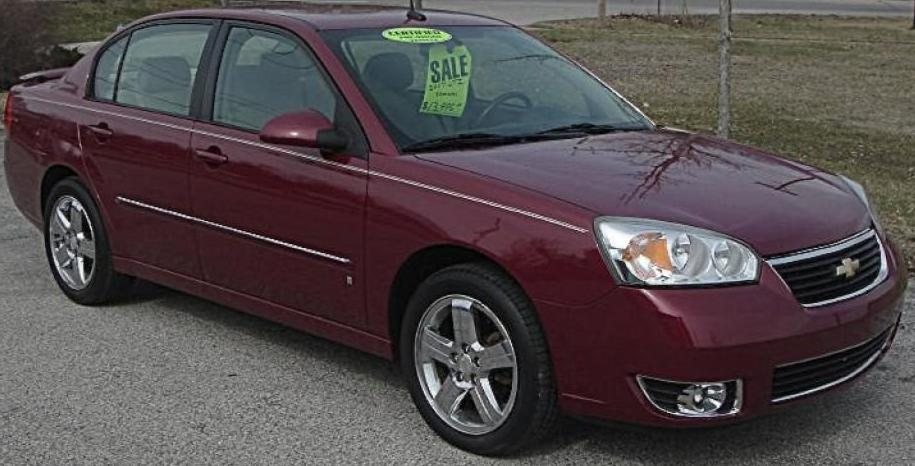front_view: (580, 179, 915, 420)
headlight: (585, 212, 764, 294)
side_glass: (67, 23, 380, 159)
